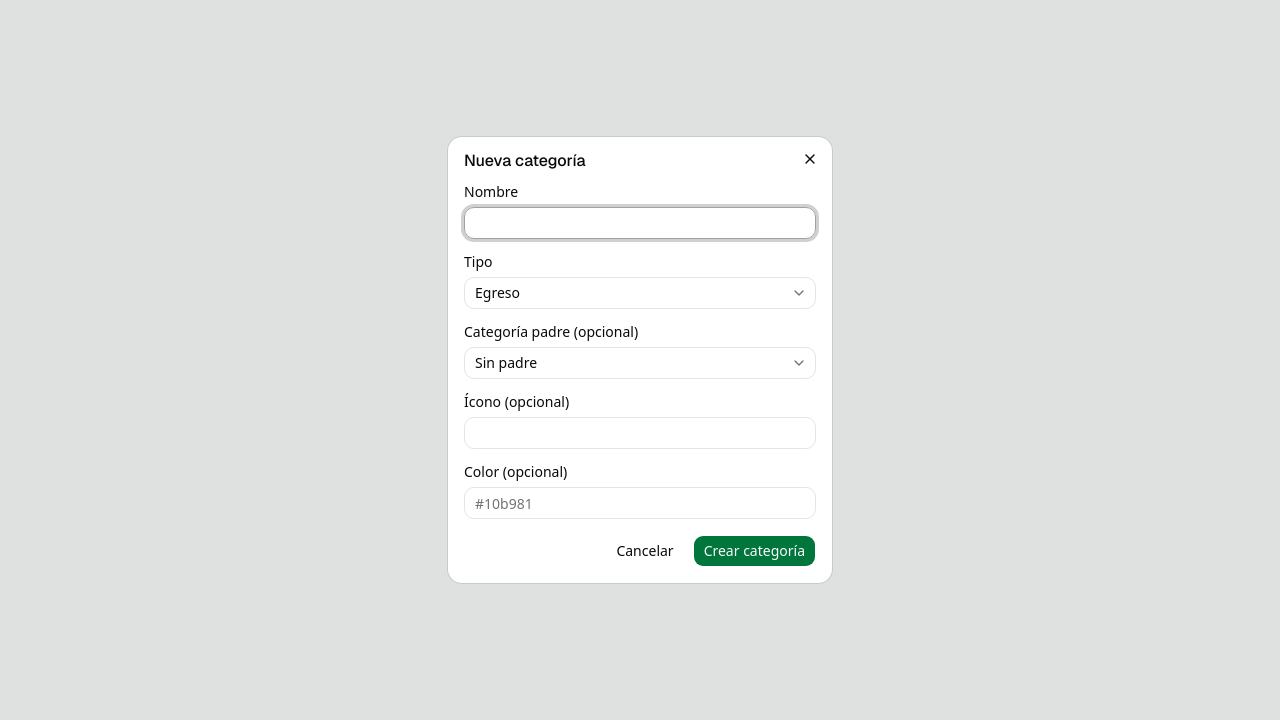
CategoryFormModal › valida que el nombre sea obligatorio y que el color sea hexadecimal
Click the button "Crear categoría": (754,551) [693, 535, 816, 567]
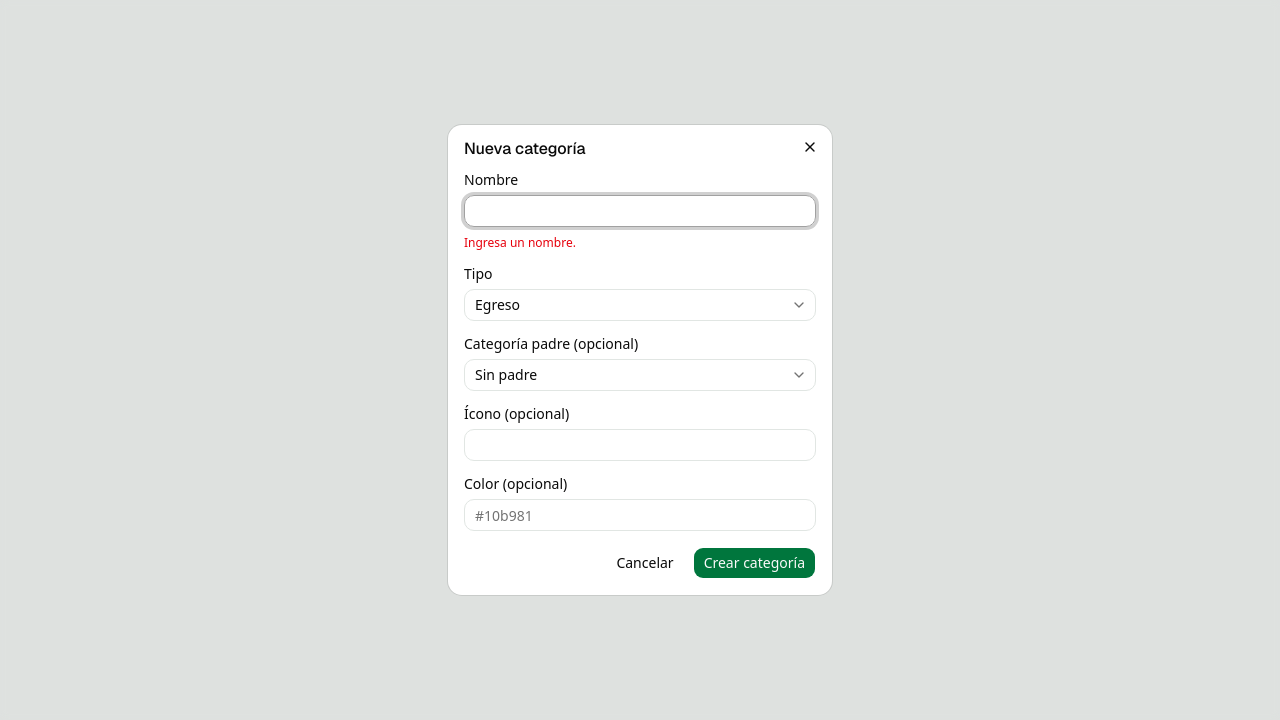
Now the text "Ingresa un nombre." is shown, box [464, 234, 576, 251]
In the field labelled "Nombre": (640,211) [464, 195, 816, 227], type "Mascotas"
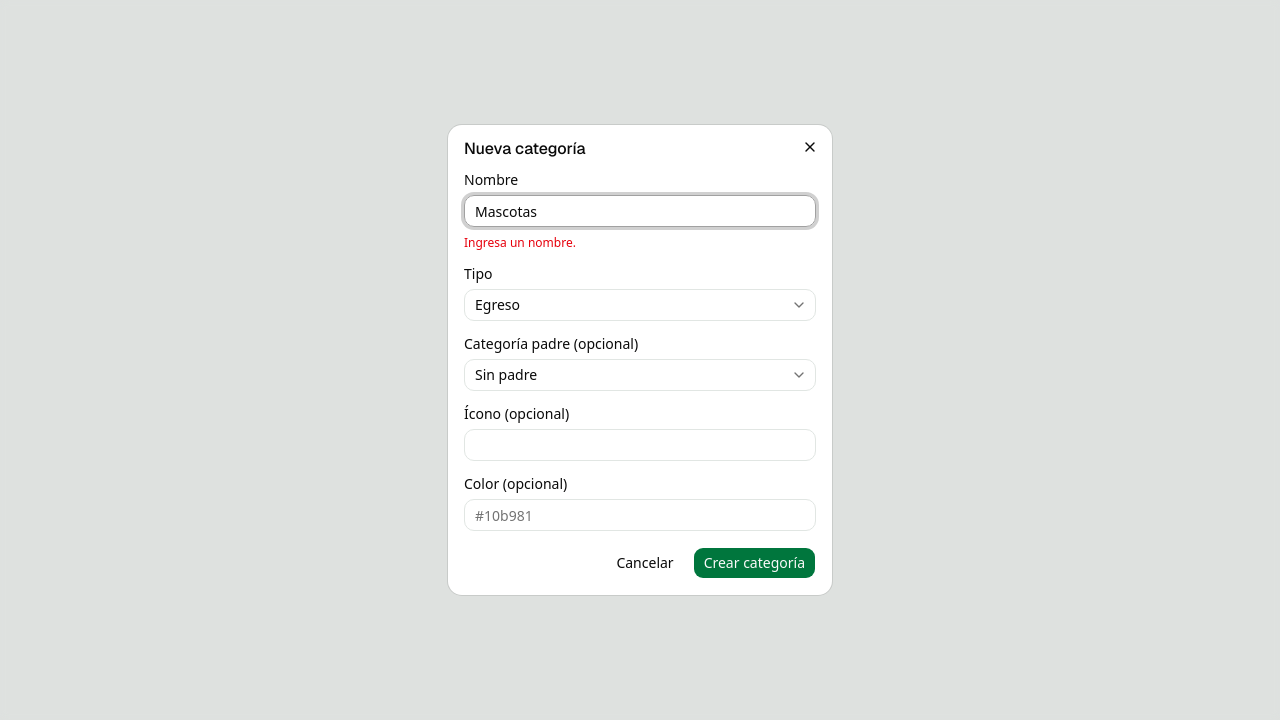
In the field labelled "Color (opcional)": (640,515) [464, 499, 816, 531], type "red"
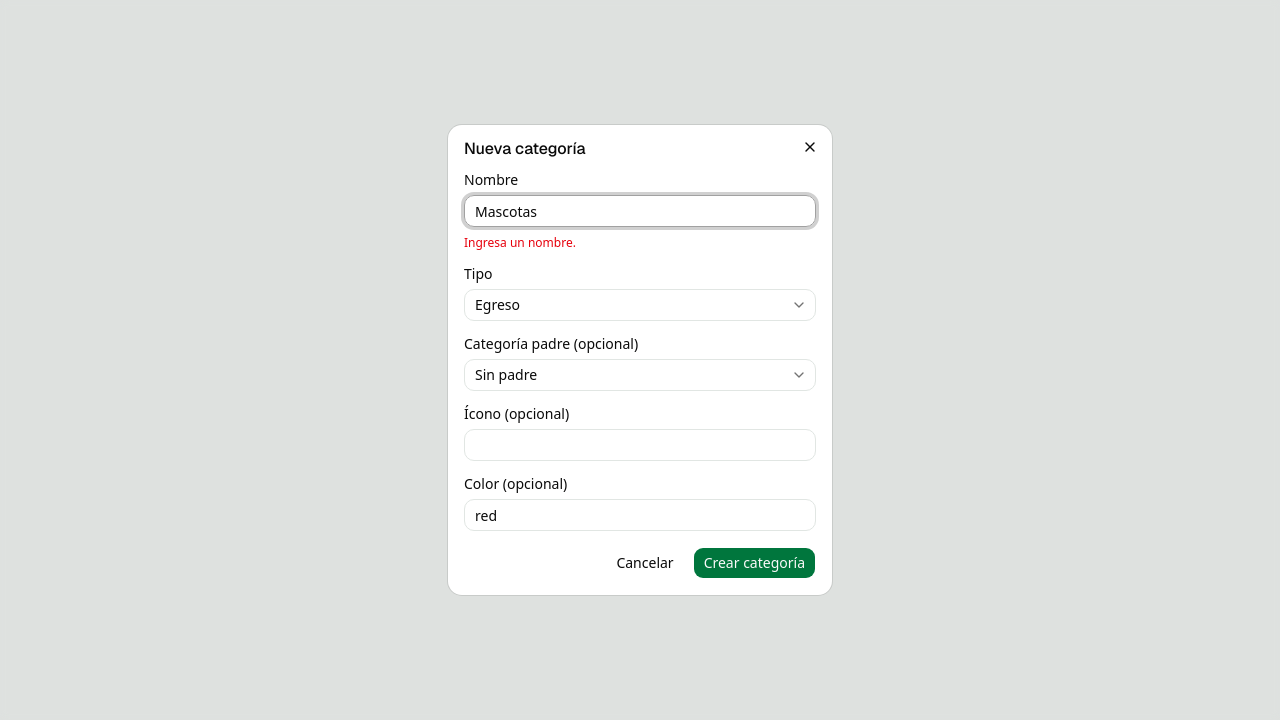
Click the button "Crear categoría": (754,563) [693, 547, 816, 579]
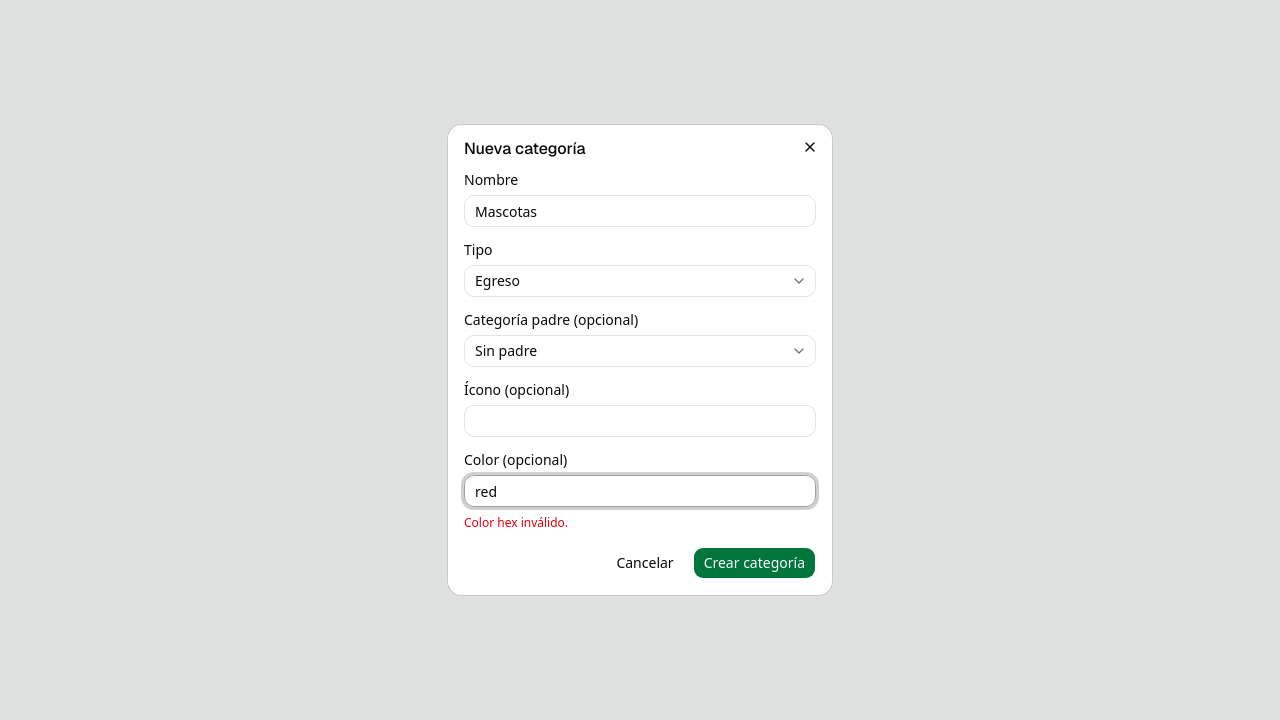
Now the text "Color hex inválido." is shown, box [464, 514, 568, 531]
